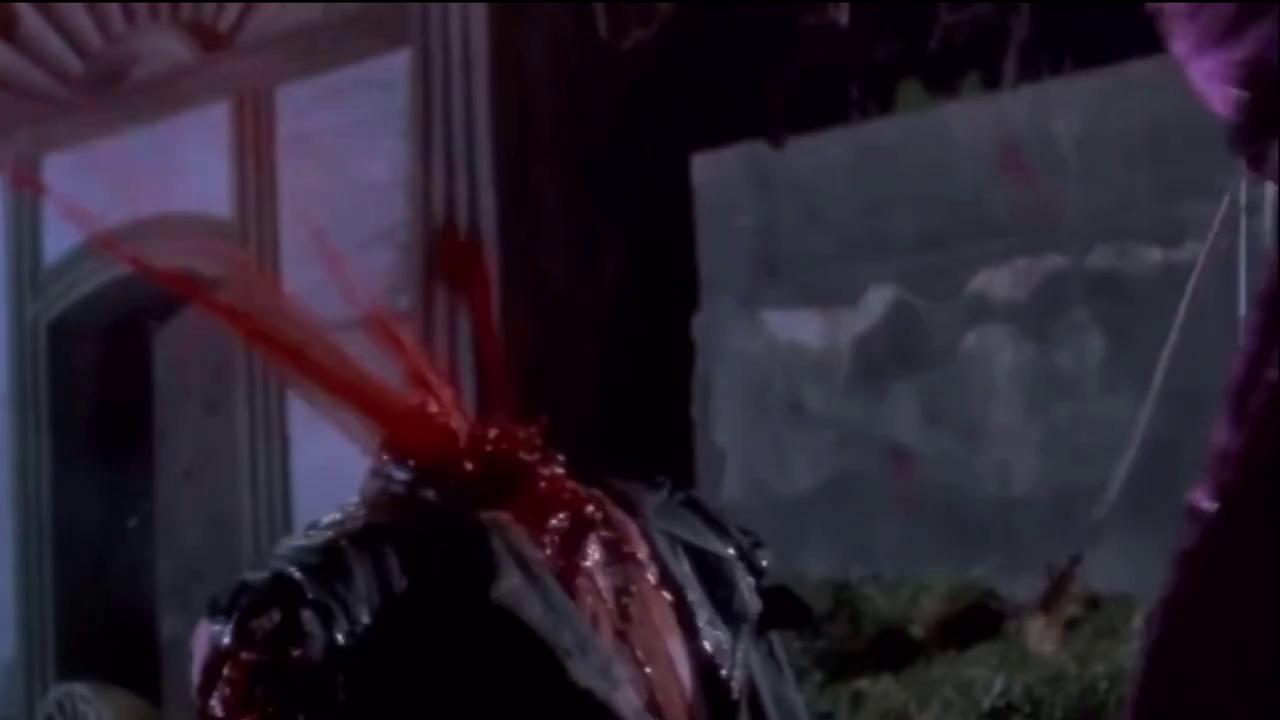Fire: (90, 216, 799, 718), (204, 652, 325, 720)
